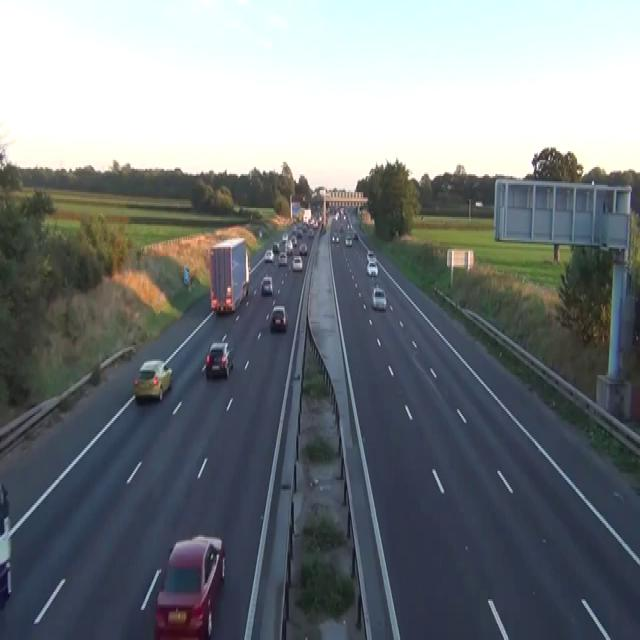Car: (154, 534, 225, 638), (133, 359, 172, 402), (0, 482, 12, 610), (205, 341, 233, 379), (269, 304, 287, 331), (371, 286, 386, 310), (260, 276, 272, 295), (366, 260, 378, 276), (292, 254, 303, 270), (264, 249, 274, 263), (278, 251, 287, 265), (284, 240, 293, 254), (299, 242, 307, 254), (344, 235, 352, 245), (366, 249, 374, 259), (331, 233, 339, 243), (350, 231, 358, 240), (272, 242, 279, 252), (290, 235, 297, 245), (296, 228, 302, 238), (282, 231, 288, 240), (320, 224, 326, 233), (291, 224, 297, 233), (307, 228, 313, 236), (475, 201, 483, 206), (347, 222, 352, 230), (334, 212, 338, 220), (258, 228, 262, 236), (339, 224, 343, 231)
Truck: (209, 236, 249, 313), (291, 201, 300, 219), (302, 208, 311, 224)
